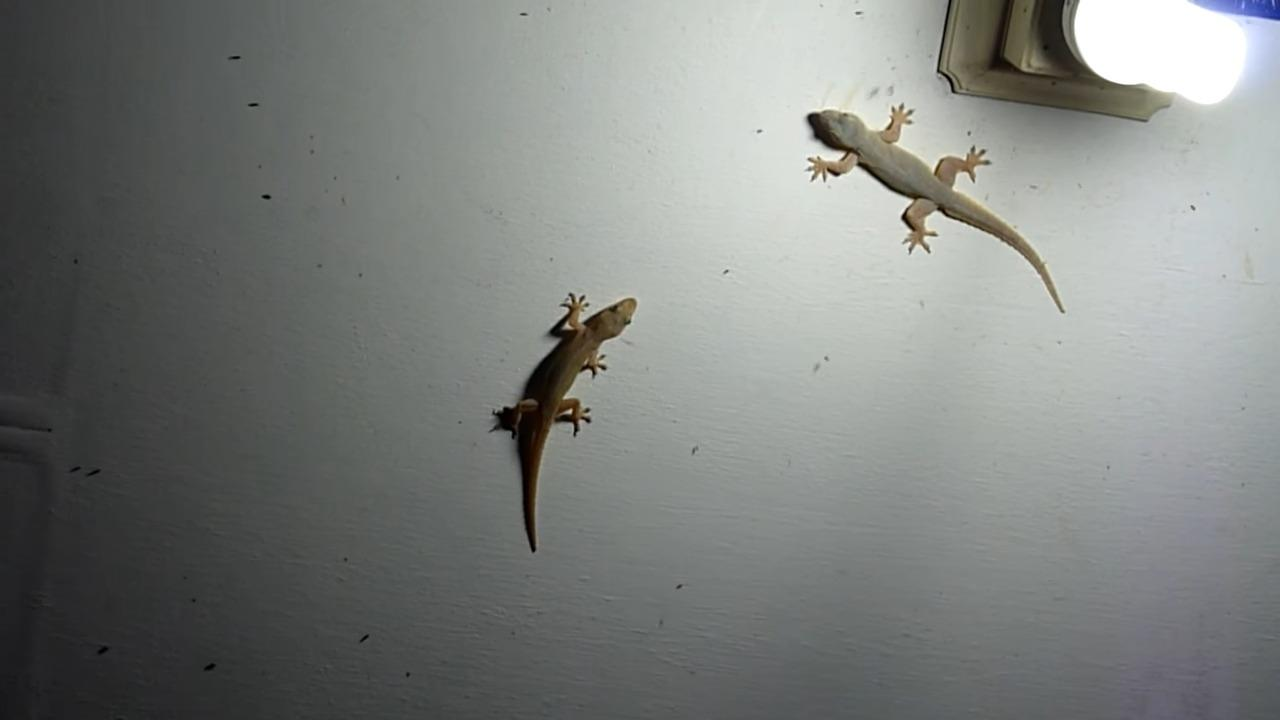lizard: (771, 100, 1077, 318), (458, 271, 647, 564)
